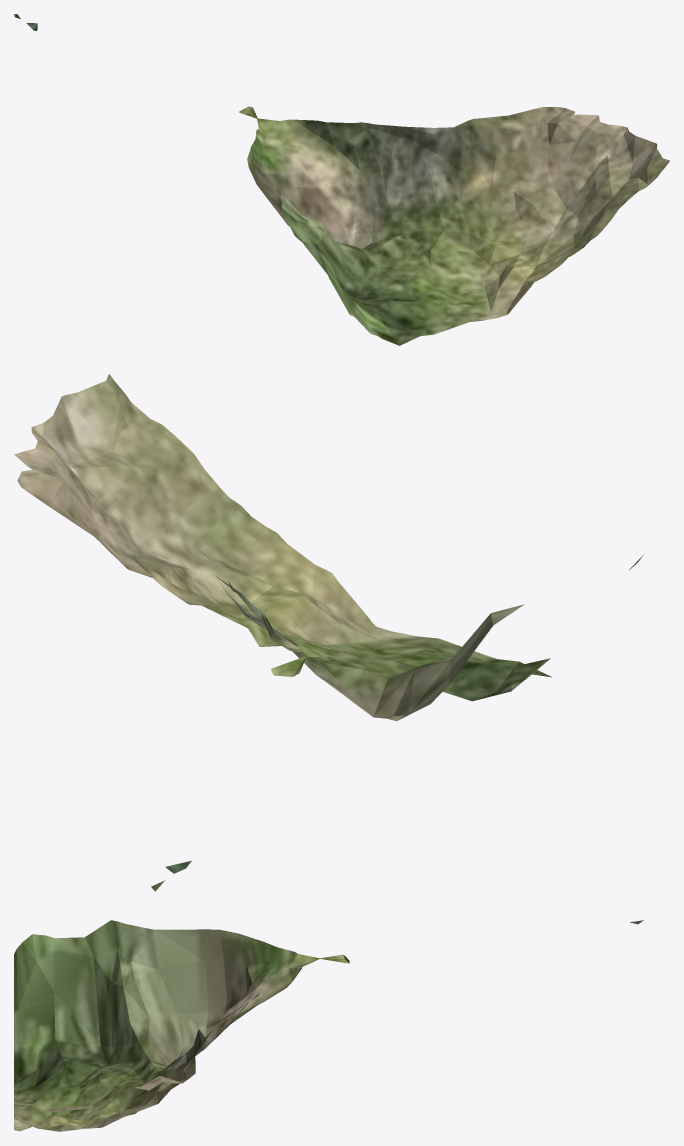
The picture shows the model from 3 angles, top to bottom: view 1: azimuth 30°, elevation 25°; view 2: azimuth 150°, elevation 25°; view 3: azimuth 270°, elevation 25°; orthographic projection. The views are drawn at different scales.
Size of the model in its own units: 6.91 by 2.25 by 10.77.
Materials: 1 (1 with a texture image).
